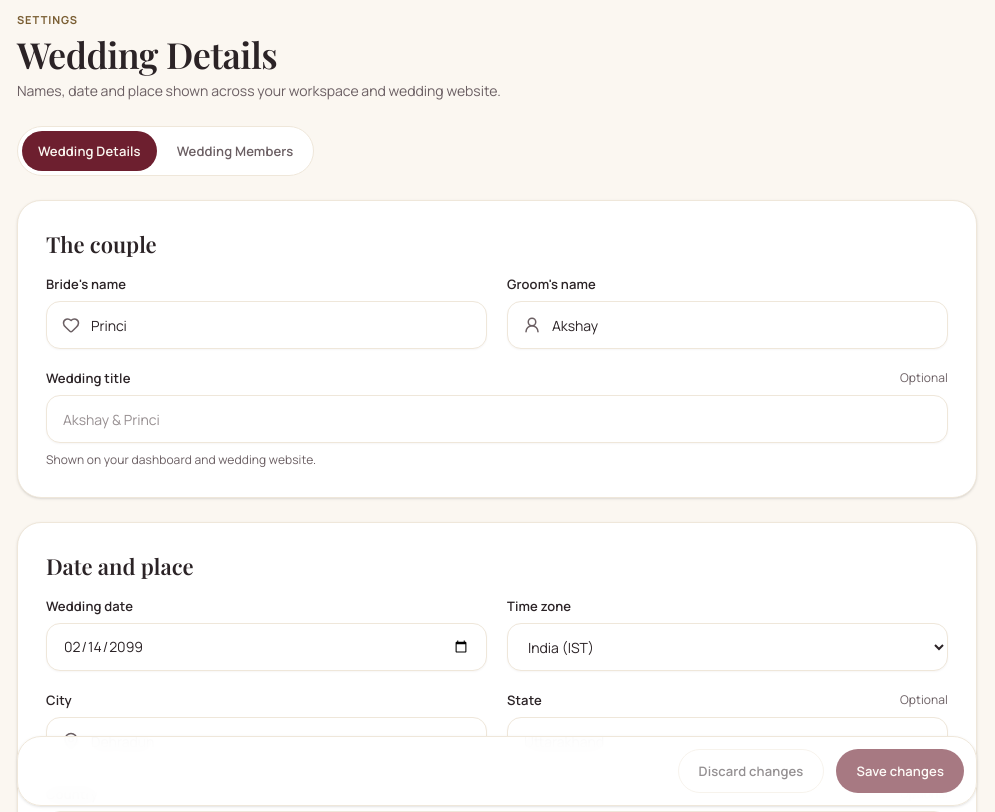
Scenario: <WeddingDetailsScreen /> › discards unsaved changes
Replace the text in the field labelled "Groom's name" with "Vikram" at (728, 325), box [507,301,948,349]
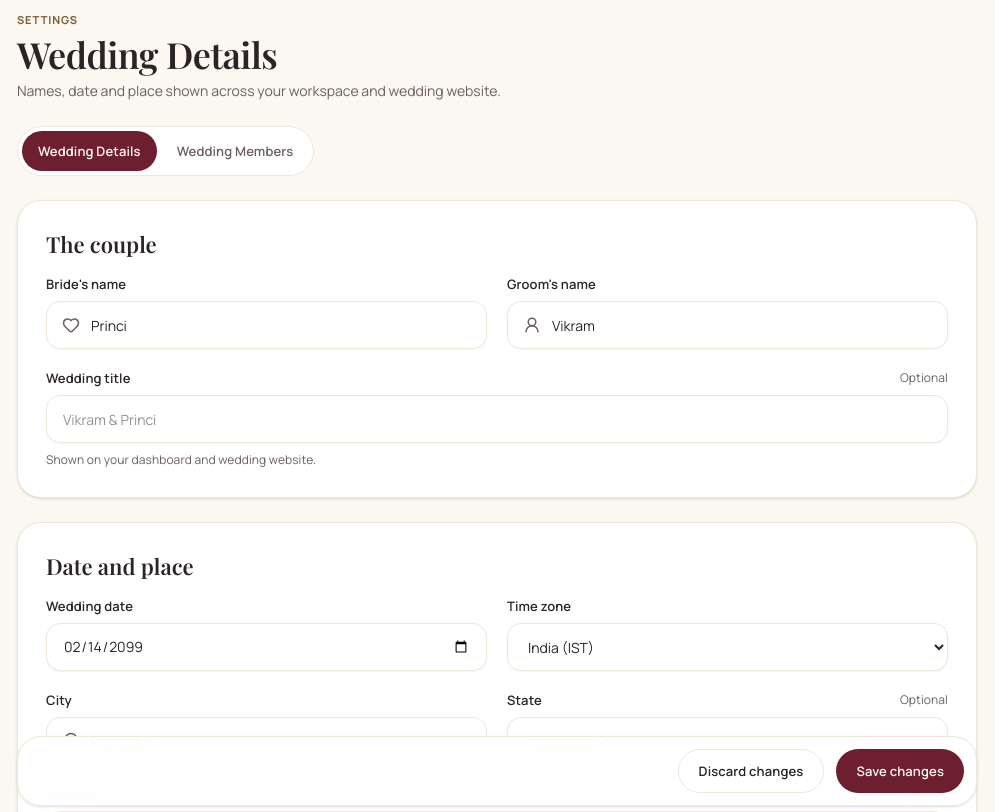
Click the button "Discard changes" at (751, 771), box [678,749,824,793]
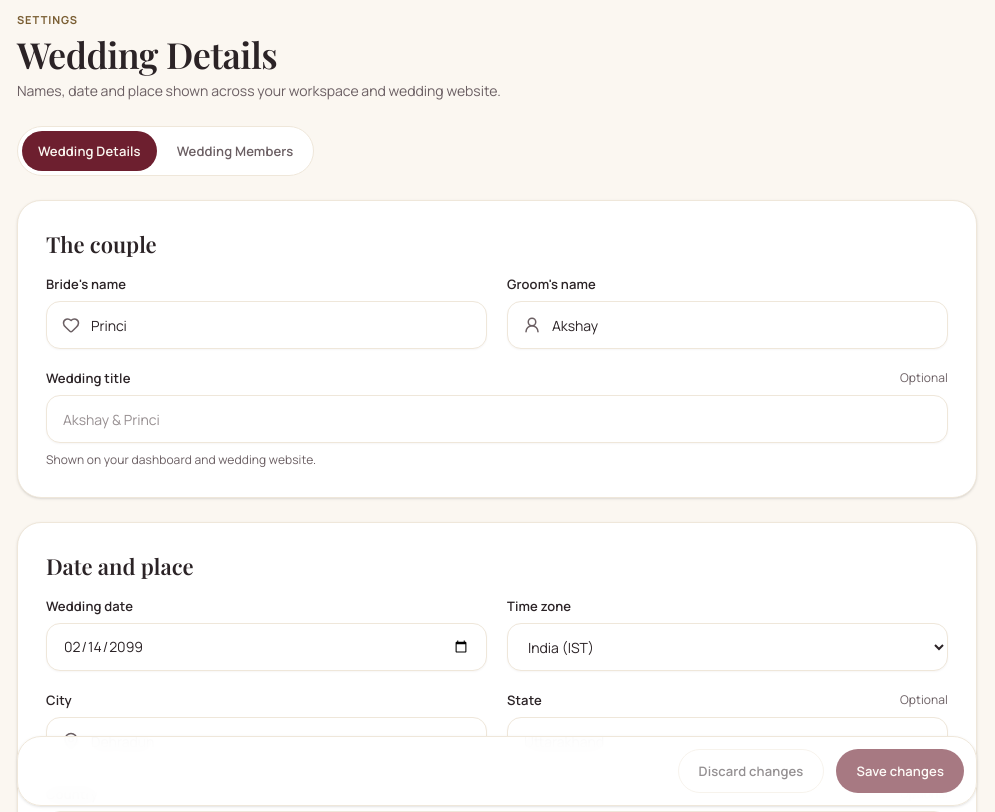
Result: the field labelled "Groom's name" holds "Akshay" at [507,301,948,349]
Result: the button "Save changes" is disabled at [836,749,964,793]
